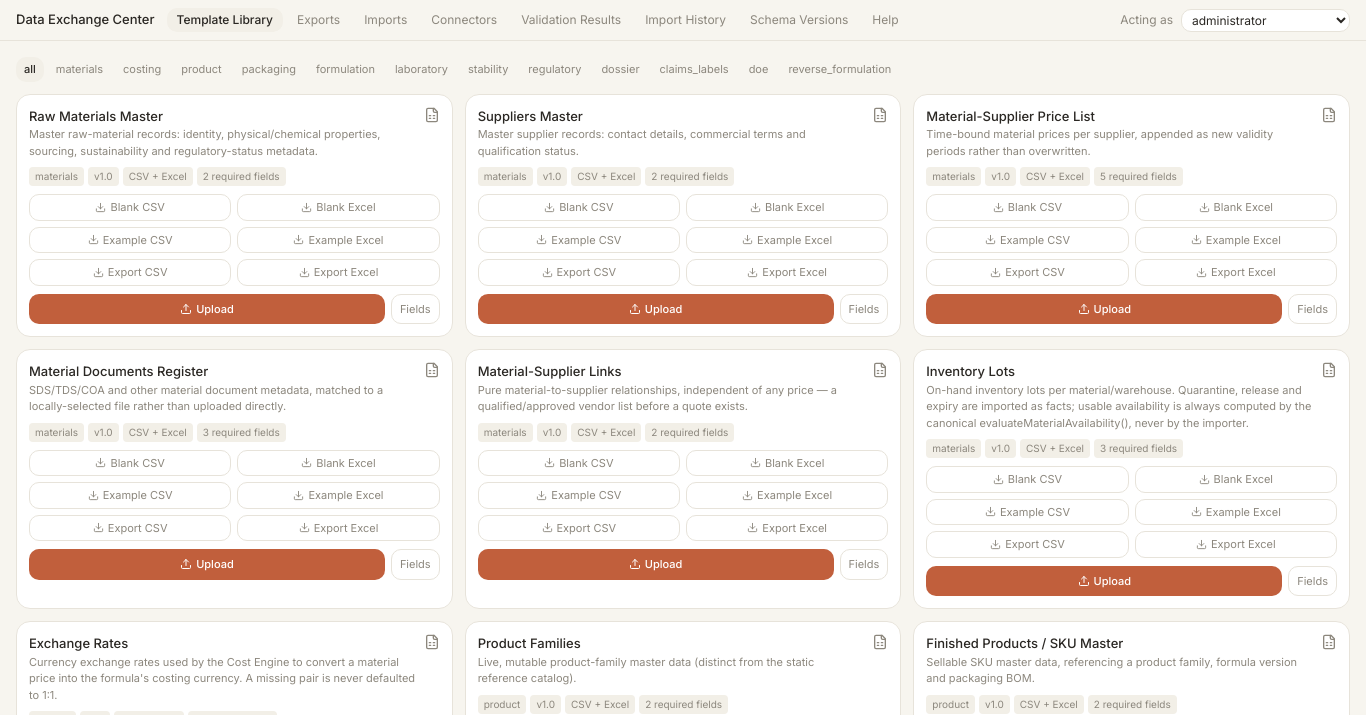
Test: DataExchangePage — Template Library › filters cards by module
Expected: the text "Raw Materials Master" is shown, [29,108,163,124]
What coordinates should you click on to do the following:
click the button "doe"
I would click on:
 (758, 69)
Its box is [741,57,776,82].
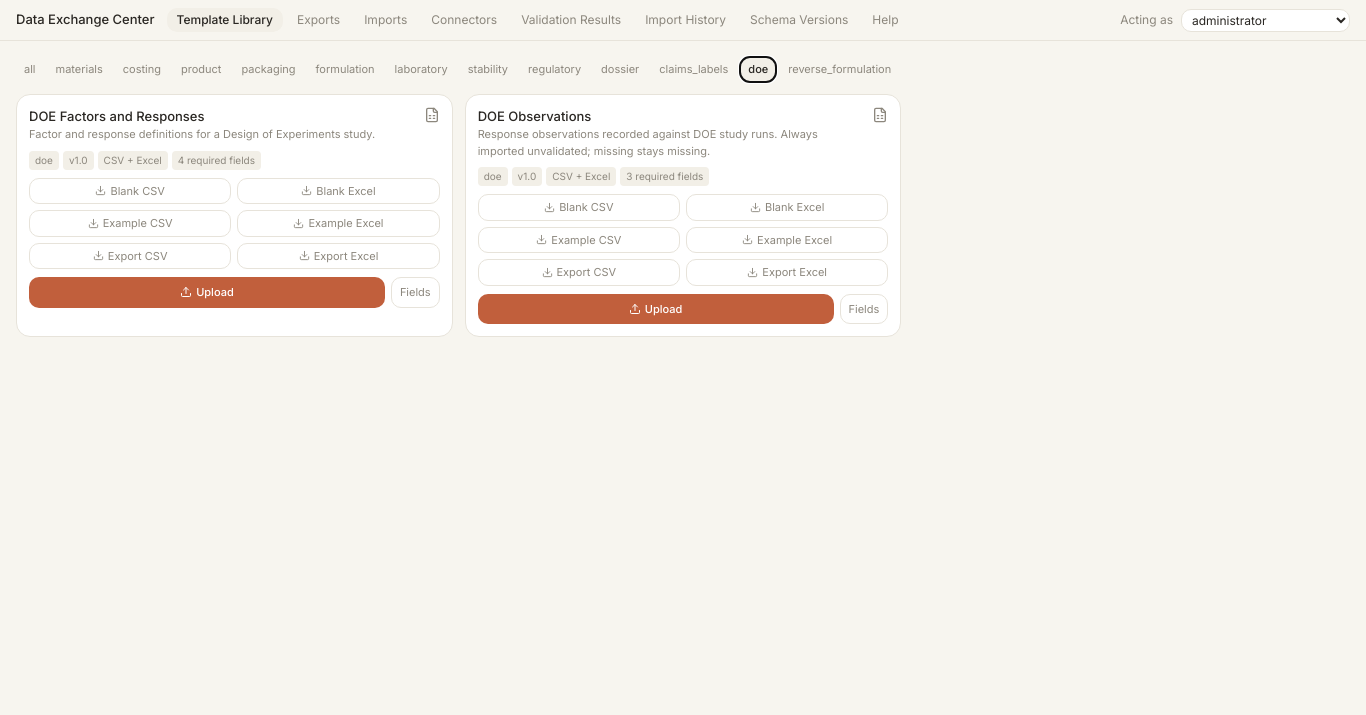
Now the text "DOE Observations" is shown, box [478,108,591,124]
Now the text "Raw Materials Master" is gone
